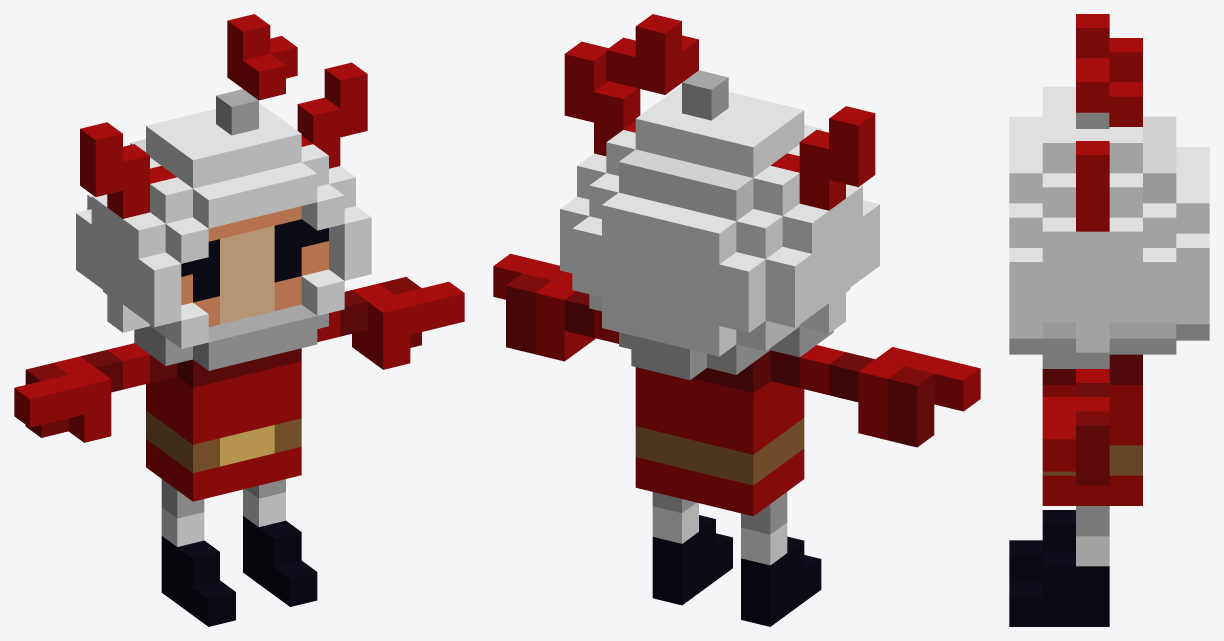
File: red.obj
3 renders of one model, left to right at view 1: azimuth 30°, elevation 25°; view 2: azimuth 150°, elevation 25°; view 3: azimuth 270°, elevation 25°, orthographic. The views are drawn at different scales.
Size of the model in its own units: 16 by 19 by 6.
